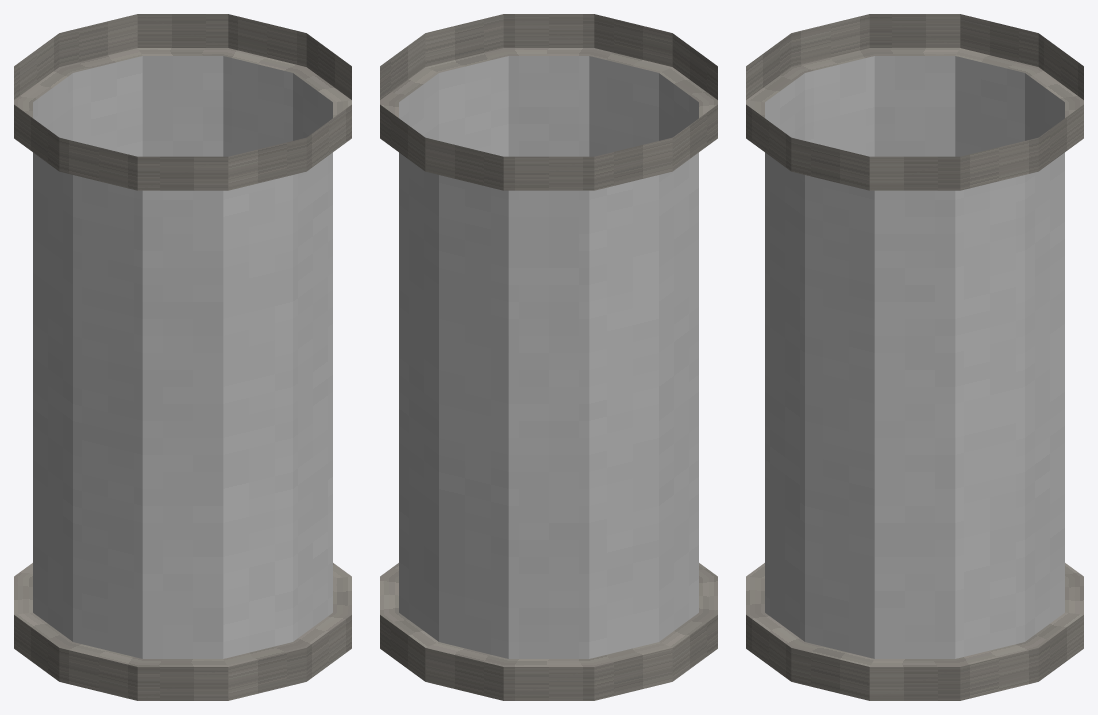
File: connection_3.obj
3 views of the same model, side by side, from view 1: azimuth 30°, elevation 25°; view 2: azimuth 150°, elevation 25°; view 3: azimuth 270°, elevation 25° (orthographic).
Bounding box in the file's own units: 0.5625 × 1 × 0.5625.
